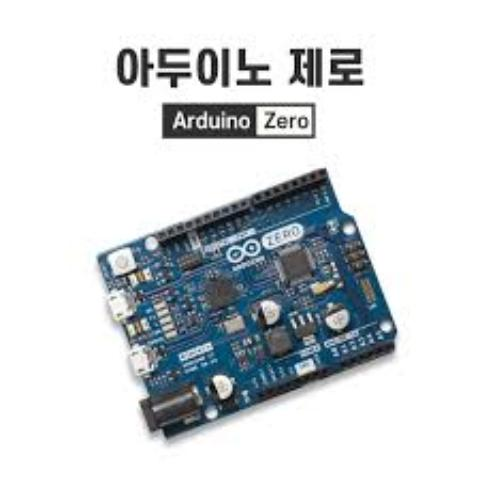Arduino-Zero: (71, 142, 414, 446)
